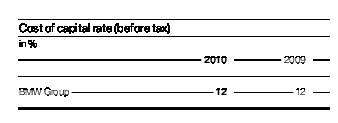table: (0, 0, 338, 123)
